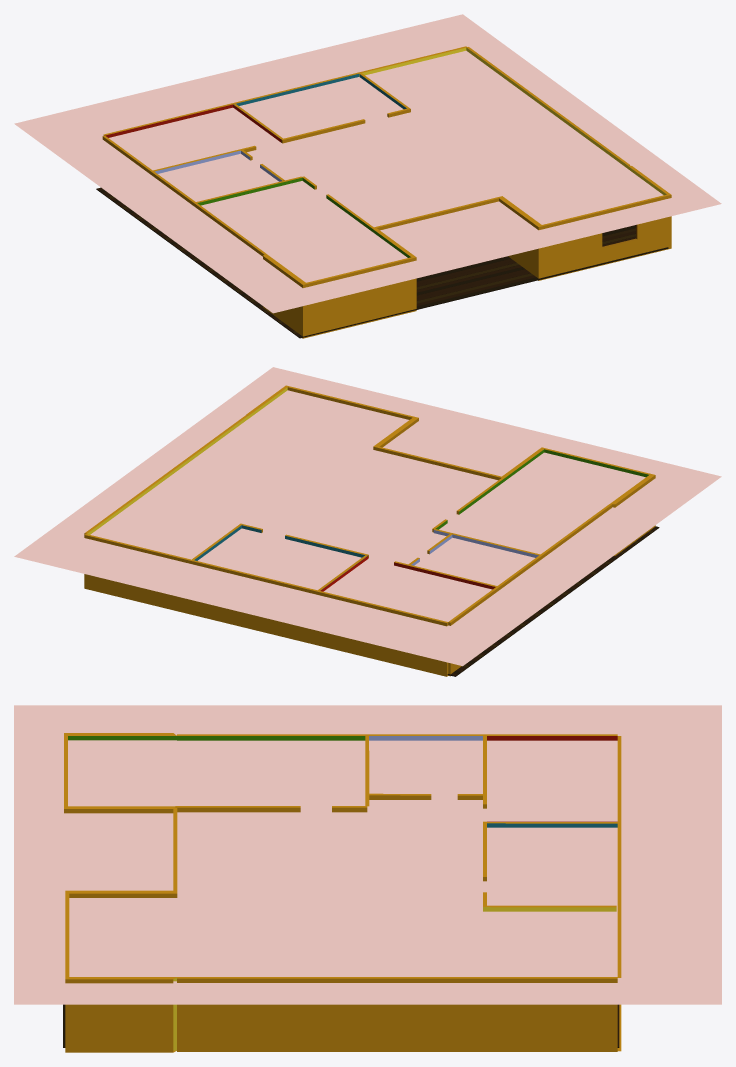
File: MuroAgujero.fbx
3 views of the same model, one above another, from view 1: azimuth 30°, elevation 25°; view 2: azimuth 150°, elevation 25°; view 3: azimuth 270°, elevation 25° (orthographic). The views are drawn at different scales.
Visible parts, largest first — view 1: Plane, Cube_000, Cube_010; view 2: Plane, Cube_000, Cube_010; view 3: Plane, Cube_000, Cube_054.
Part boxes in pixels (<box>): Plane: <box>14,14,721,313</box>; Cube_000: <box>102,46,671,338</box>; Cube_010: <box>96,187,668,338</box>; Plane: <box>14,367,721,666</box>; Cube_000: <box>84,385,655,676</box>; Cube_010: <box>447,526,659,676</box>; Plane: <box>14,705,721,1004</box>; Cube_000: <box>64,733,621,1052</box>; Cube_054: <box>487,821,617,827</box>.
Size of the model in its own units: 157 by 18.09 by 157.
